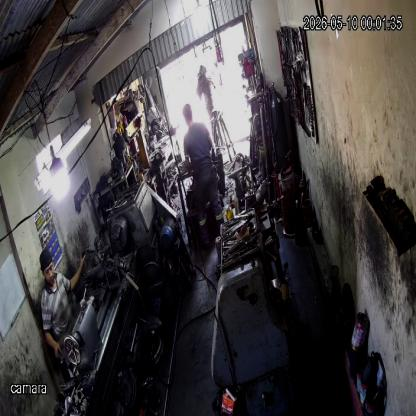sin_lentes: (42, 264, 54, 276)
